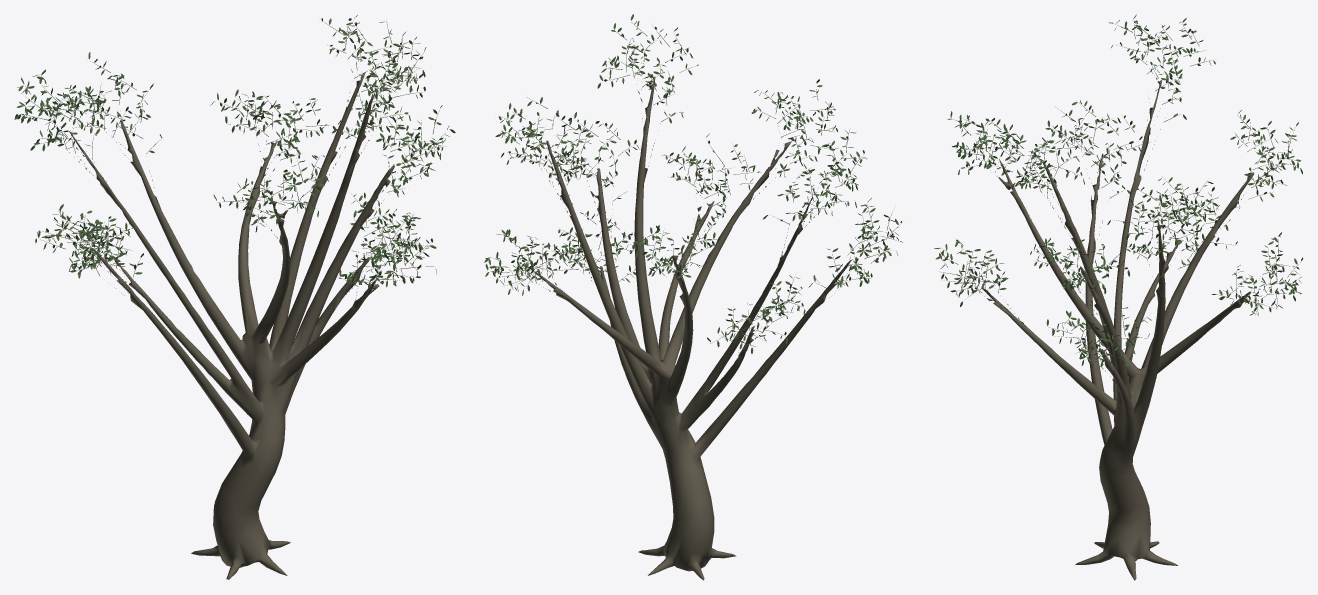
File: CheneVert_1_Niveau0.fbx
3 renders of one model, left to right at view 1: azimuth 30°, elevation 25°; view 2: azimuth 150°, elevation 25°; view 3: azimuth 270°, elevation 25°, orthographic. The views are drawn at different scales.
Parts seen in each view (by area): view 1: CheneVert_1_Niveau0; view 2: CheneVert_1_Niveau0; view 3: CheneVert_1_Niveau0.
Boxes of the visible parts, box(x1,y1,x2,y2) form: CheneVert_1_Niveau0: box(14, 15, 455, 579); CheneVert_1_Niveau0: box(484, 14, 902, 580); CheneVert_1_Niveau0: box(934, 14, 1303, 580).
Bounding box in the file's own units: 460 × 589 × 411.
